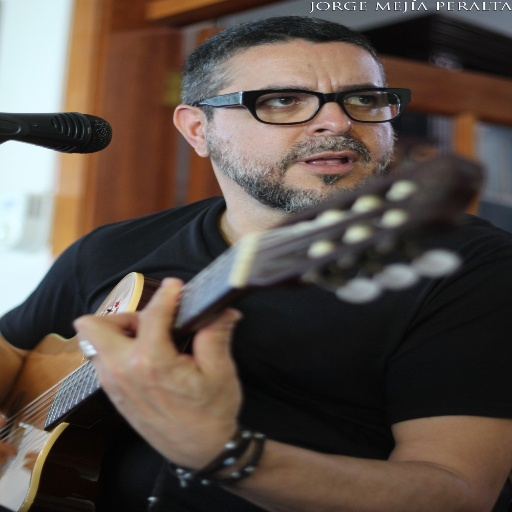hand: (60, 294, 263, 480)
